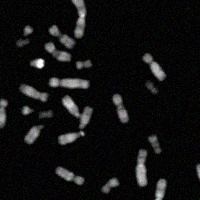chromosome: (142, 52, 166, 82), (48, 22, 75, 47), (70, 0, 88, 37), (44, 41, 73, 62), (112, 92, 130, 125), (55, 167, 85, 185), (48, 77, 89, 90), (62, 94, 82, 120), (20, 84, 48, 101), (23, 125, 46, 145), (137, 148, 149, 185), (58, 130, 87, 145), (149, 178, 168, 200), (77, 105, 93, 128), (100, 177, 119, 195), (143, 78, 160, 96), (149, 133, 163, 154), (0, 99, 9, 129), (20, 23, 35, 37), (28, 57, 45, 69), (195, 162, 200, 200), (76, 59, 92, 69), (20, 105, 33, 117), (39, 108, 53, 119), (16, 38, 29, 47)
